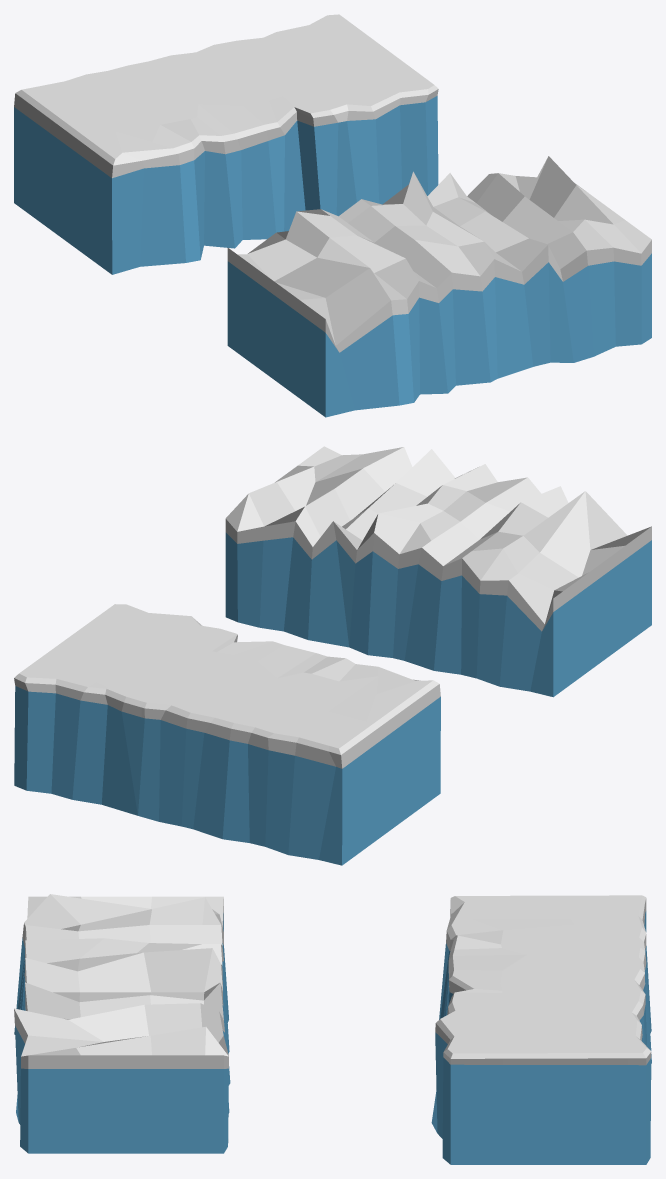
The model's file is iceberg.fbx.
The picture shows the model from 3 angles, top to bottom: view 1: azimuth 30°, elevation 25°; view 2: azimuth 150°, elevation 25°; view 3: azimuth 270°, elevation 25°; orthographic projection.
Visible parts, largest first — view 1: iceBerg.001, iceBerg.002; view 2: iceBerg.002, iceBerg.001; view 3: iceBerg.002, iceBerg.001.
Boxes of the visible parts, x1=… form: iceBerg.001: x1=227, y1=156, x2=651, y2=417; iceBerg.002: x1=14, y1=14, x2=438, y2=274; iceBerg.002: x1=14, y1=604, x2=440, y2=865; iceBerg.001: x1=225, y1=446, x2=651, y2=697; iceBerg.002: x1=431, y1=895, x2=651, y2=1164; iceBerg.001: x1=14, y1=894, x2=230, y2=1153.
Bounding box in the file's own units: 4022 × 1733 × 6793.
